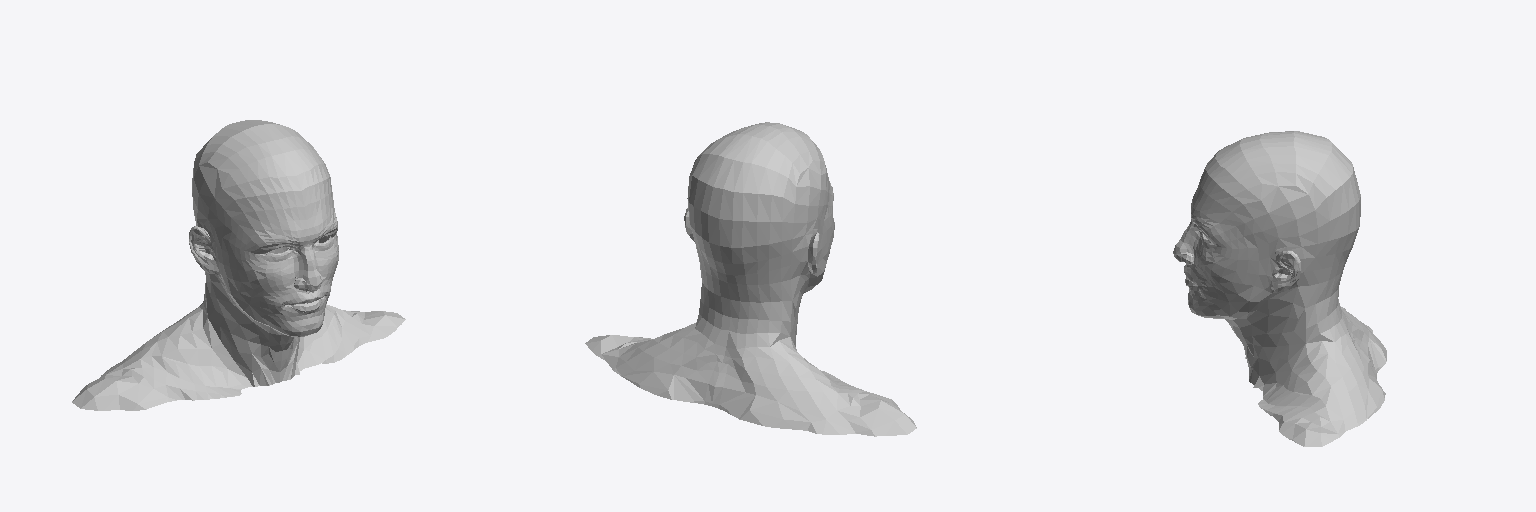
3 renders of one model, left to right at view 1: azimuth 30°, elevation 25°; view 2: azimuth 150°, elevation 25°; view 3: azimuth 270°, elevation 25°, orthographic.
Visible parts, largest first — view 1: mmGroup0; view 2: mmGroup0; view 3: mmGroup0.
Boxes of the visible parts, box(x1,y1,x2,y2) form: mmGroup0: box(72, 120, 405, 410); mmGroup0: box(585, 122, 916, 436); mmGroup0: box(1173, 131, 1386, 446).
Size of the model in its own units: 1.07 by 0.7744 by 0.6101.